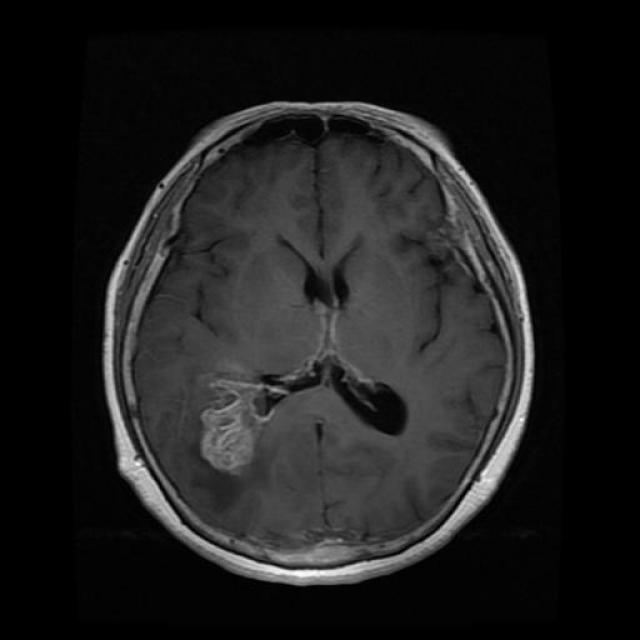Brain-Tumor: (198, 362, 282, 486)
